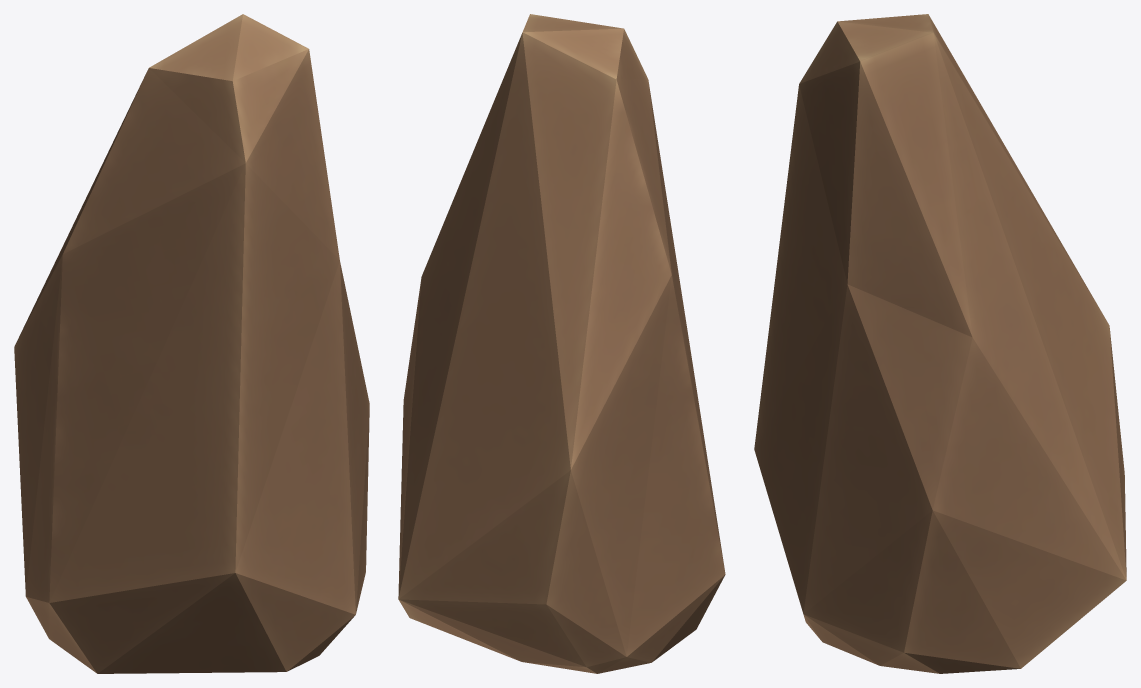
The model's file is Rock_48.fbx.
The picture shows the model from 3 angles, left to right: view 1: azimuth 30°, elevation 25°; view 2: azimuth 150°, elevation 25°; view 3: azimuth 270°, elevation 25°; orthographic projection. The views are drawn at different scales.
Visible parts, largest first — view 1: Rock_48; view 2: Rock_48; view 3: Rock_48.
Part boxes in pixels (x1,y1,x2,y2): Rock_48: (14, 14, 369, 673); Rock_48: (398, 14, 725, 673); Rock_48: (754, 14, 1126, 673).
Bounding box in the file's own units: 29.65 × 51.93 × 29.23.
